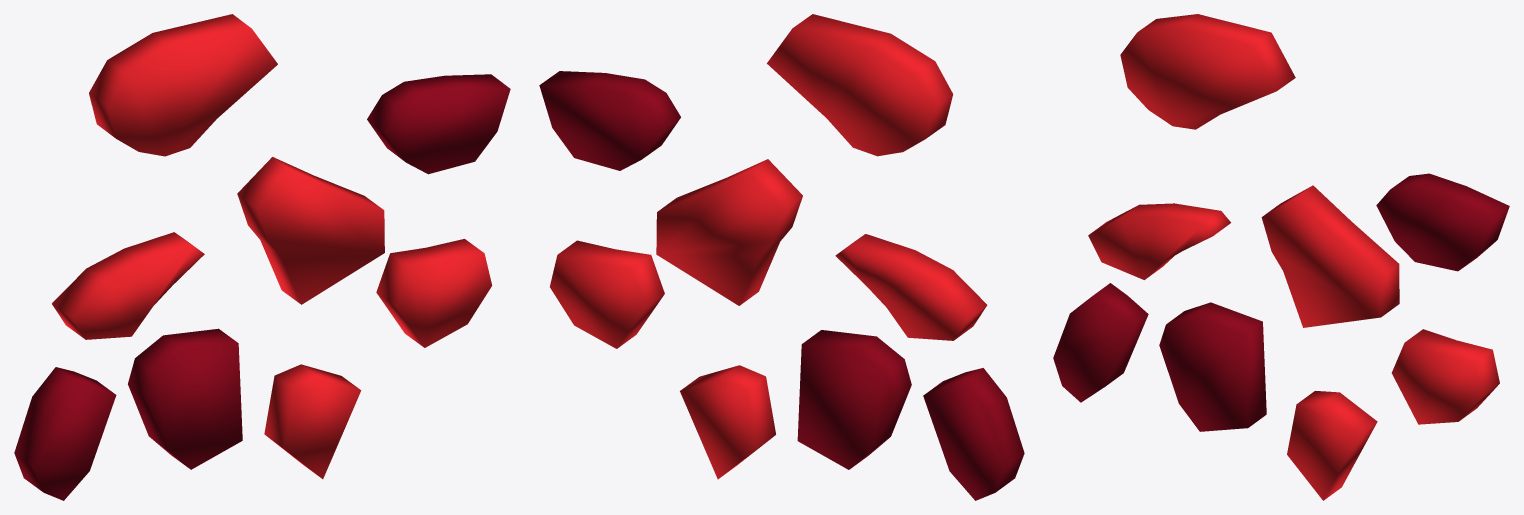
The model's file is rockingchair.fbx_fragmented_shapes.fbx.
The picture shows the model from 3 angles, left to right: view 1: azimuth 30°, elevation 25°; view 2: azimuth 150°, elevation 25°; view 3: azimuth 330°, elevation 25°; orthographic projection. The views are drawn at different scales.
Visible parts, largest first — view 1: fragmented shapes; view 2: fragmented shapes; view 3: fragmented shapes.
Boxes of the visible parts, bbox=[...] form: fragmented shapes: bbox=[14, 14, 510, 500]; fragmented shapes: bbox=[539, 14, 1024, 500]; fragmented shapes: bbox=[1053, 14, 1509, 500].
Size of the model in its own units: 110 by 104 by 9.7.
